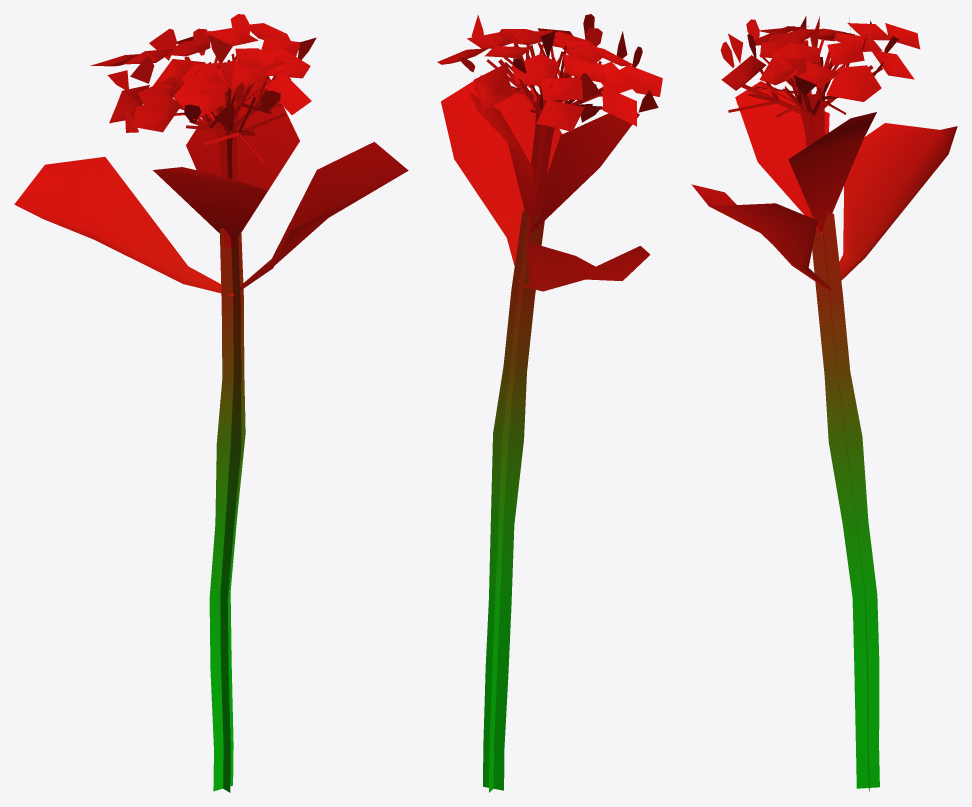
Rendered from Var11_LOD4.fbx.
3 views of the same model, side by side, from view 1: azimuth 30°, elevation 25°; view 2: azimuth 150°, elevation 25°; view 3: azimuth 270°, elevation 25° (orthographic). The views are drawn at different scales.
Parts seen in each view (by area): view 1: _setb_Var11_LOD4; view 2: _setb_Var11_LOD4; view 3: _setb_Var11_LOD4.
Part boxes in pixels (x1,y1,x2,y2): _setb_Var11_LOD4: (14,14,408,792); _setb_Var11_LOD4: (437,14,662,792); _setb_Var11_LOD4: (691,16,957,791).
Bounding box in the file's own units: 16.15 × 43.78 × 14.02.
